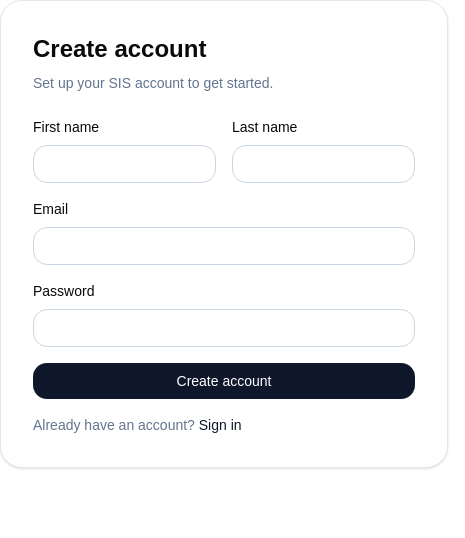
RegisterPage — API errors › shows conflict message on 409 response
This screenshot has width=465, height=538.
Type "Bob" into the field labelled "First name".
click(124, 164); type("Bob")  # box x1=33 y1=145 x2=216 y2=183
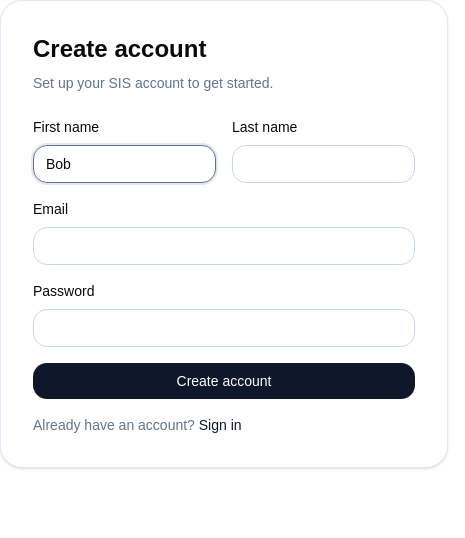
Type "Jones" into the field labelled "Last name".
click(324, 164); type("Jones")  # box x1=232 y1=145 x2=415 y2=183
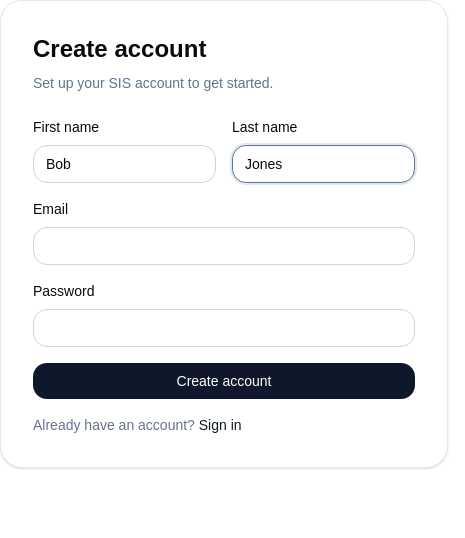
Type "bob@uni.edu" into the field labelled "Email".
click(224, 246); type("bob@uni.edu")  # box x1=33 y1=227 x2=415 y2=265
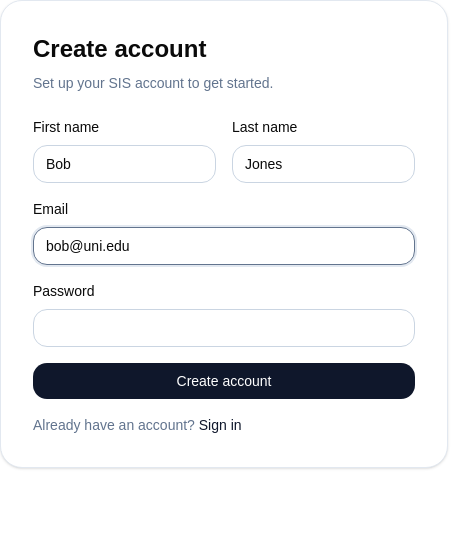
Type "secure456" into the password field labelled "Password".
click(224, 328); type("secure456")  # box x1=33 y1=309 x2=415 y2=347
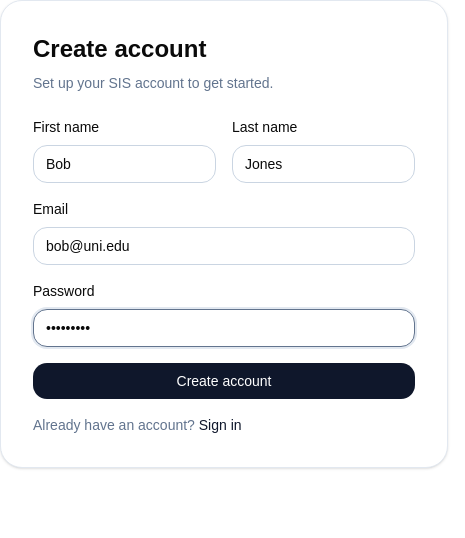
Click the button "Create account".
click(224, 381)  # box x1=33 y1=363 x2=415 y2=399
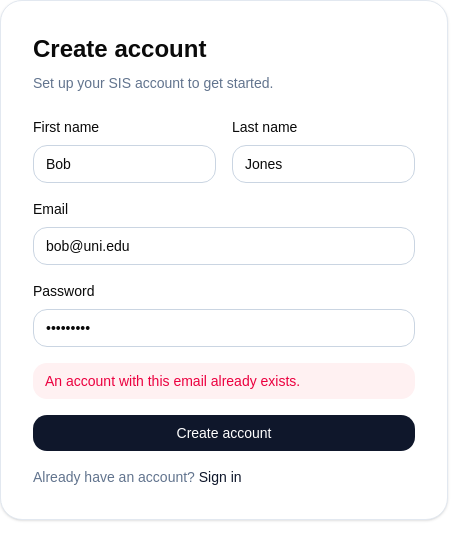
Expected: the text "An account with this email already exists." is shown, x1=33 y1=363 x2=415 y2=399
